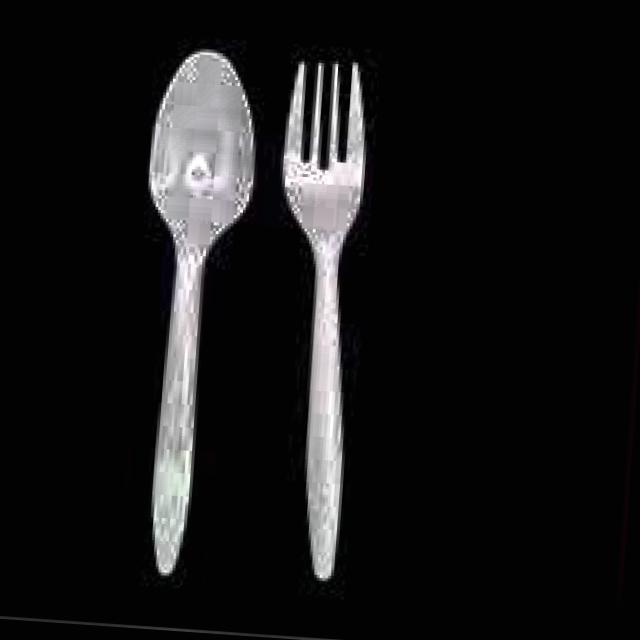plastic bottle: (281, 61, 365, 579)
plastic utensil: (149, 50, 253, 575)
